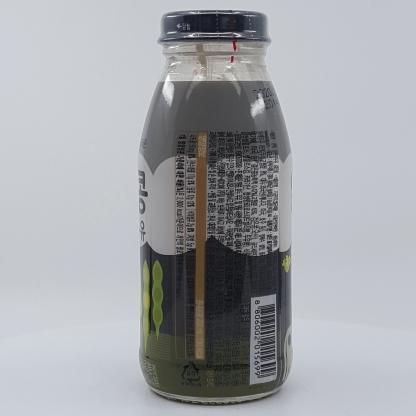--------200ML: (137, 9, 293, 404)
